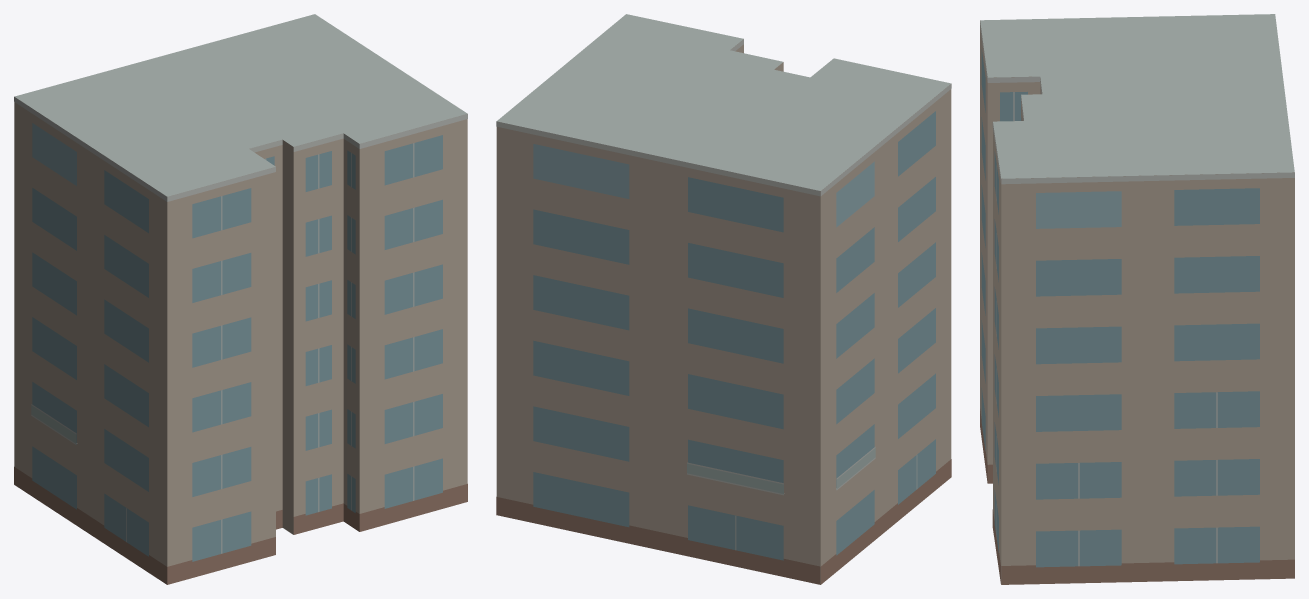
Rendered from survey-upis-32736696.glb.
The picture shows the model from 3 angles, left to right: view 1: azimuth 30°, elevation 25°; view 2: azimuth 150°, elevation 25°; view 3: azimuth 270°, elevation 25°; orthographic projection. The views are drawn at different scales.
Parts seen in each view (by area): view 1: survey-upis-32736696.tmp; view 2: survey-upis-32736696.tmp; view 3: survey-upis-32736696.tmp.
Boxes of the visible parts, left/top/right/bottom form: survey-upis-32736696.tmp: left=14, top=14, right=467, bottom=584; survey-upis-32736696.tmp: left=496, top=14, right=951, bottom=584; survey-upis-32736696.tmp: left=980, top=14, right=1294, bottom=584.
Bounding box in the file's own units: 15.76 × 18.1 × 12.72.
